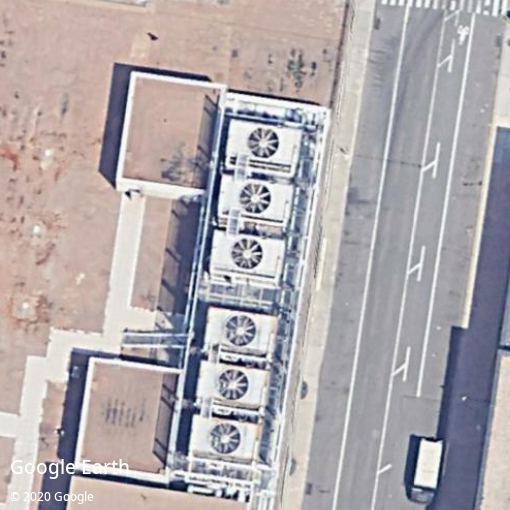Vent: (231, 238, 264, 269), (226, 315, 257, 346), (248, 128, 280, 158), (240, 183, 272, 213), (210, 423, 241, 453), (218, 369, 248, 399)
